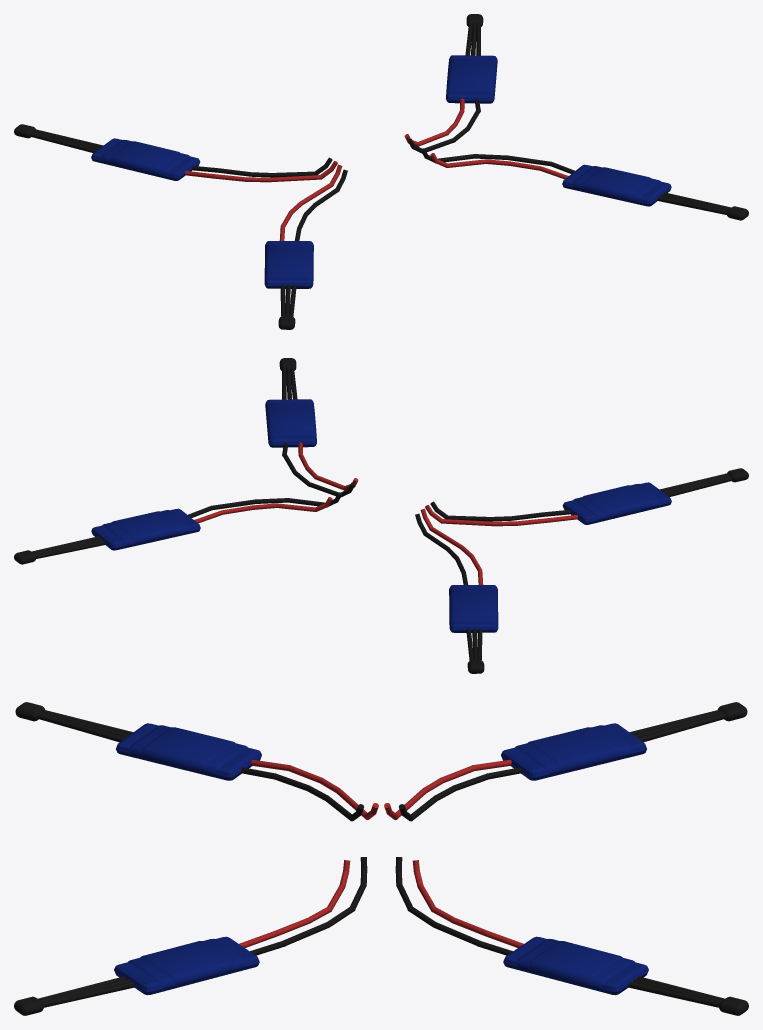
Rendered from controller1.dae.
3 views of the same model, one above another, from view 1: azimuth 30°, elevation 25°; view 2: azimuth 150°, elevation 25°; view 3: azimuth 270°, elevation 25° (orthographic). The views are drawn at different scales.
Parts seen in each view (by area): view 1: Würfel.2 (×2), Würfel (×2), Würfel.1 (×2), Kabel.1; view 2: Würfel.2 (×2), Würfel (×2), Würfel.1 (×2), Kabel.1; view 3: Würfel.2 (×2), Würfel (×2), Würfel.1 (×2), Kabel.2 (×2), Schrumpfschlauch_Motor (×2), Kabel (×2), Kabel.1 (×2), Kabel.8.
Part boxes in pixels (left/top/right/bottom): Würfel.2 (×2): left=111, top=62, right=651, bottom=273; Würfel (×2): left=91, top=55, right=671, bottom=288; Würfel.1 (×2): left=101, top=59, right=660, bottom=279; Kabel.1: left=465, top=23, right=727, bottom=214; Würfel.2 (×2): left=111, top=406, right=651, bottom=617; Würfel (×2): left=91, top=399, right=671, bottom=632; Würfel.1 (×2): left=102, top=403, right=661, bottom=623; Kabel.1: left=35, top=367, right=297, bottom=558; Würfel.2 (×2): left=140, top=727, right=622, bottom=984; Würfel (×2): left=114, top=723, right=648, bottom=995; Würfel.1 (×2): left=128, top=725, right=634, bottom=987; Kabel.2 (×2): left=37, top=713, right=725, bottom=1007; Schrumpfschlauch_Motor (×2): left=14, top=702, right=748, bottom=1015; Kabel (×2): left=40, top=711, right=722, bottom=1001; Kabel.1 (×2): left=38, top=710, right=724, bottom=999; Kabel.8: left=283, top=922, right=479, bottom=945.
Size of the model in its own units: 588 by 29.2 by 595.
